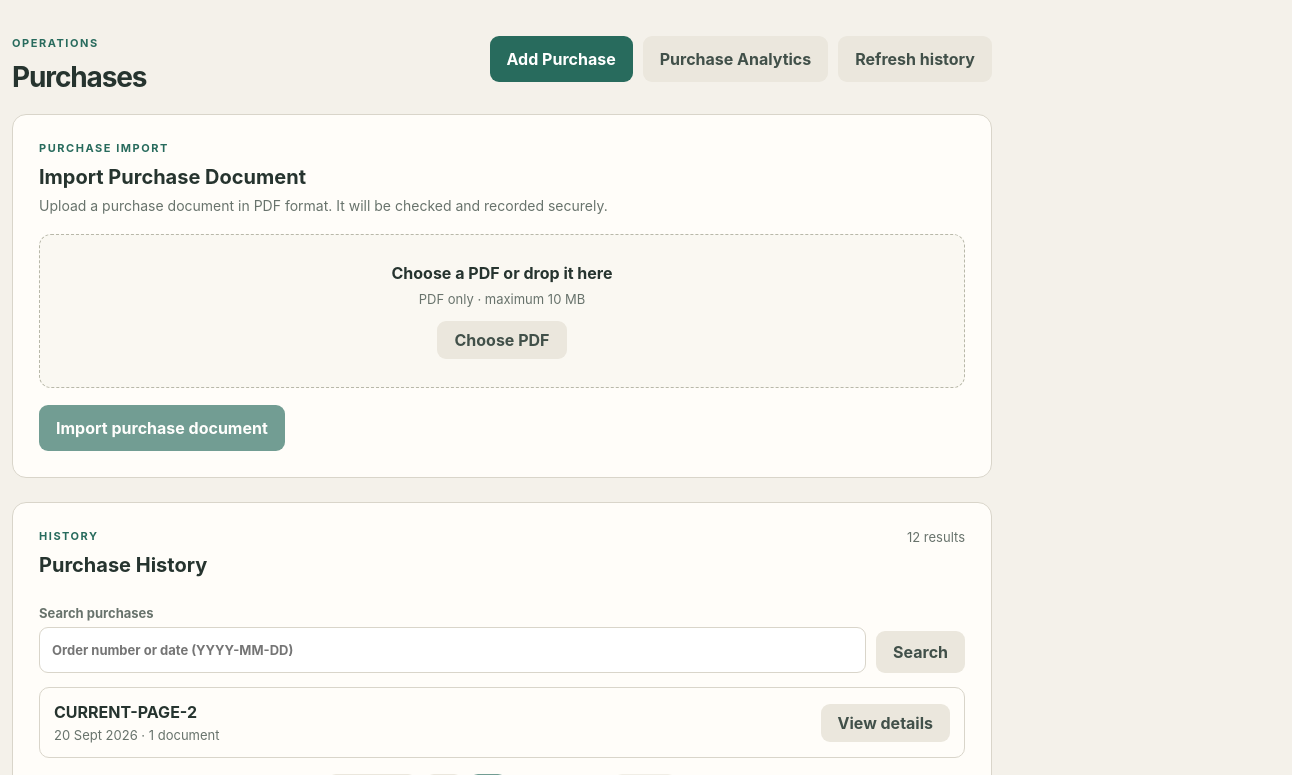
Test case: Purchases › searches server-side for order/date value 171- and resets to page 1
Expected: the text "CURRENT-PAGE-2" is shown, [54,702,197,722]
Type "171-" into the search field labelled "Search purchases" at (452, 650), box [39,627,866,673]
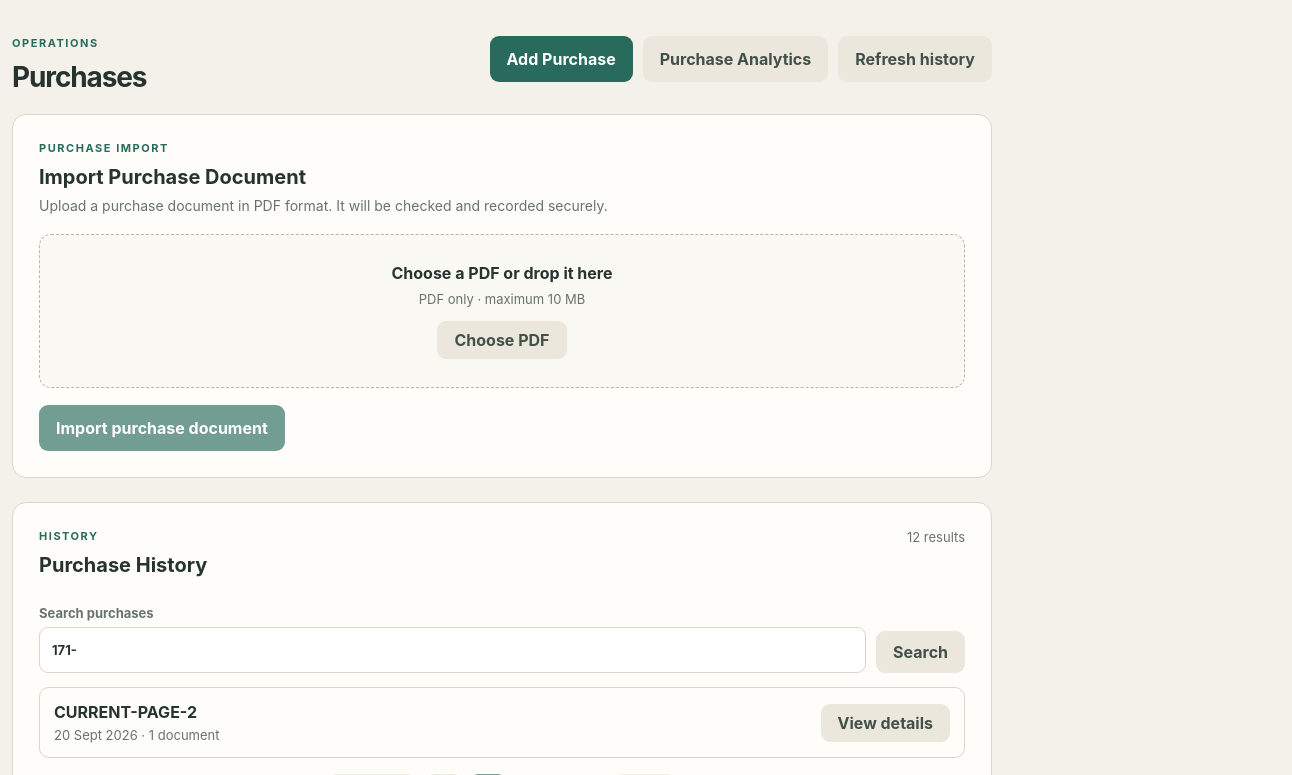
Click the button "Search" at (920, 652), box [876,631,965,673]
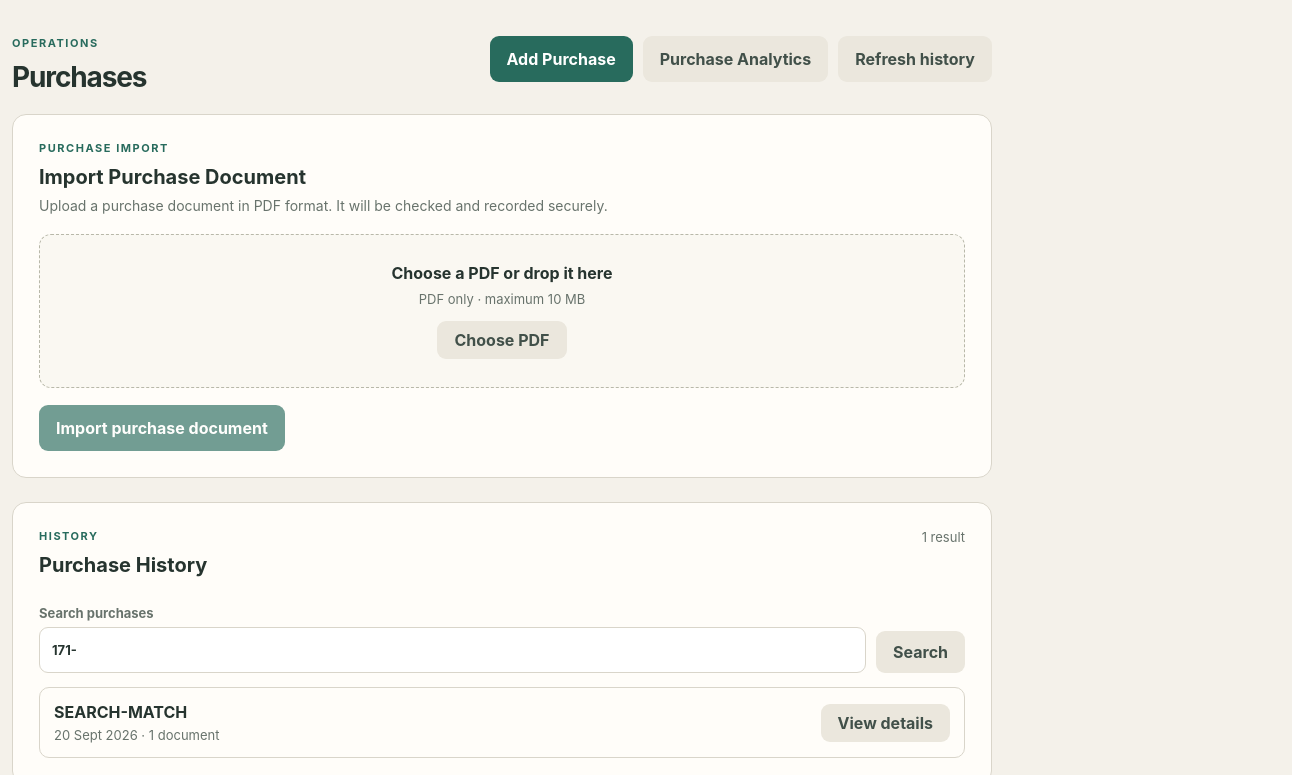
Expected: the text "SEARCH-MATCH" is shown, [54,702,187,722]
Expected: the text "1 result" is shown, [922,529,965,545]
